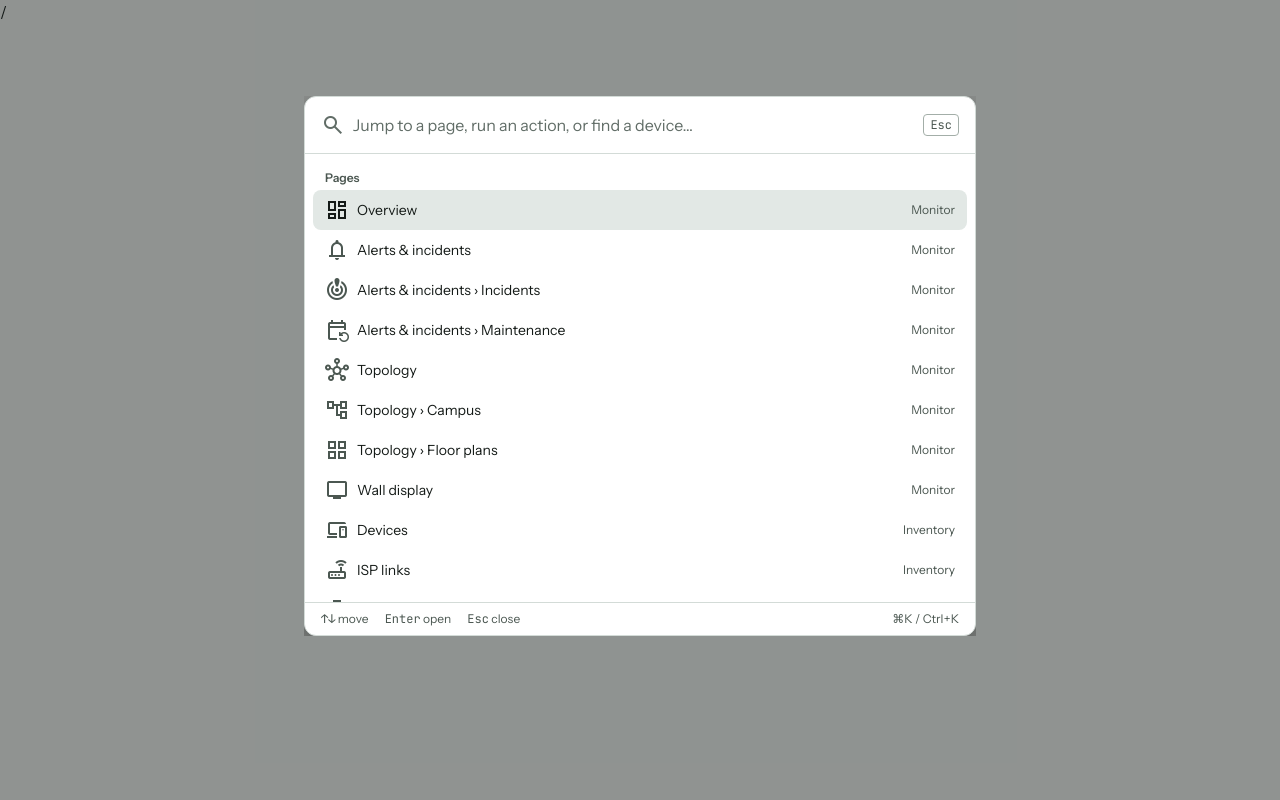
Test: CommandPalette › is a combobox over a grouped listbox and jumps to settings sections
The width and height of the screenshot is (1280, 800).
Step 1. Type "backup" into the dropdown named "Search pages" → (634, 125), box [353, 97, 915, 153]
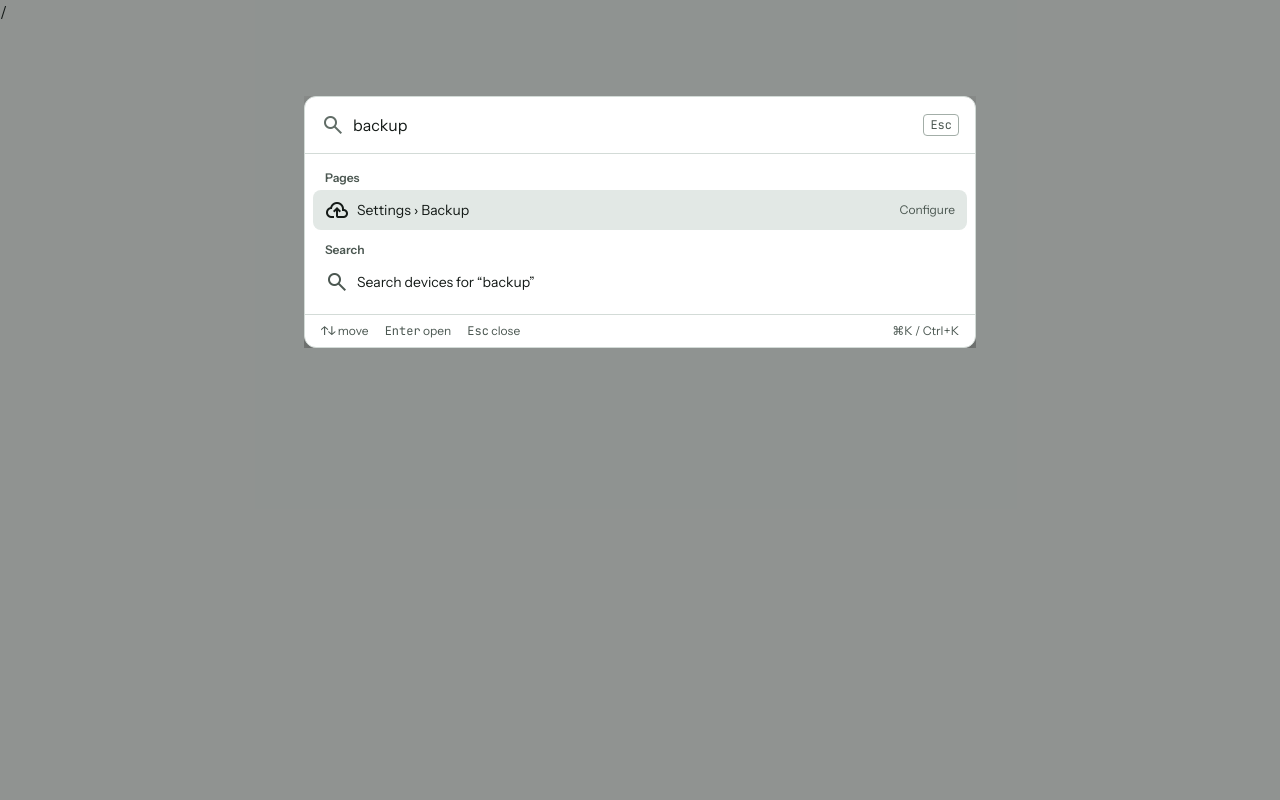
Step 2. Press Enter
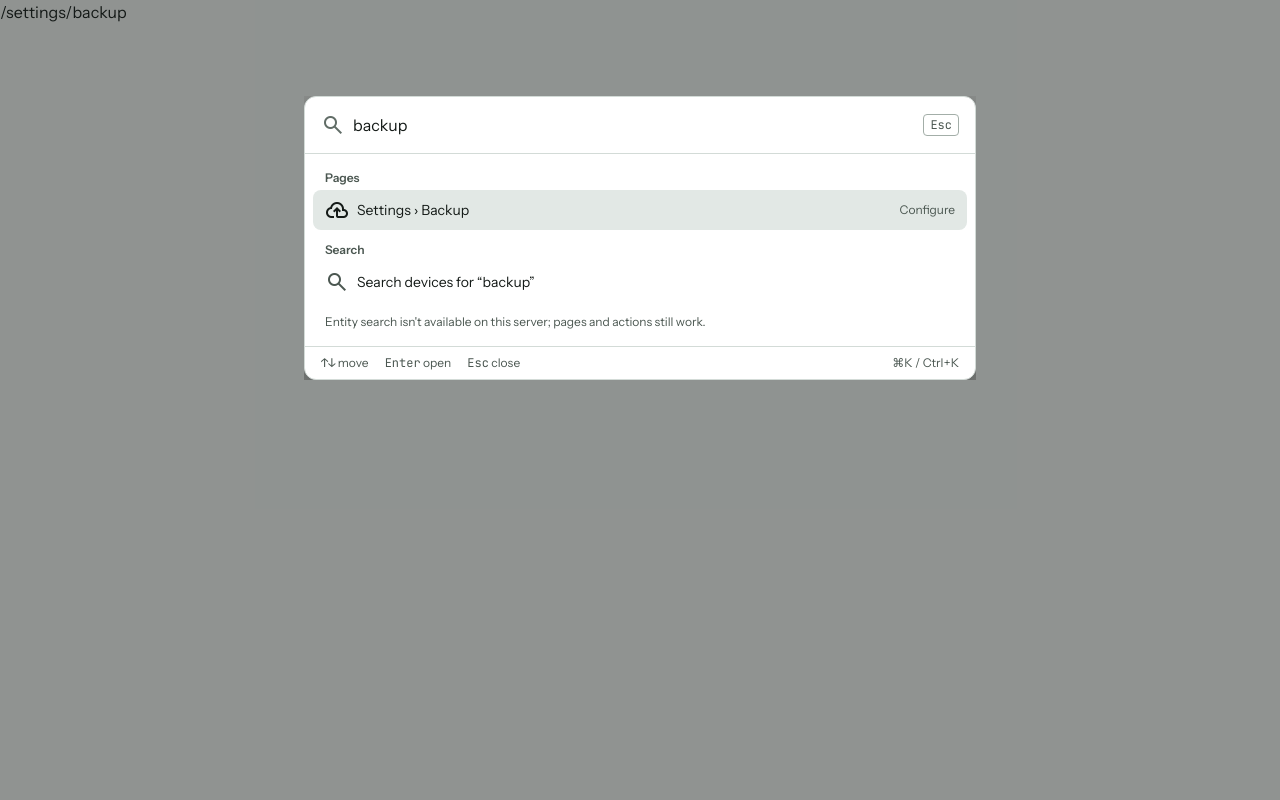
Result: the text with test id "location" reads "/settings/backup" at [0, 2, 127, 22]
